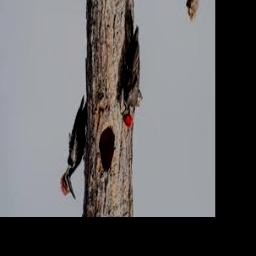Woodpecker: (60, 97, 87, 202), (120, 0, 140, 128)
